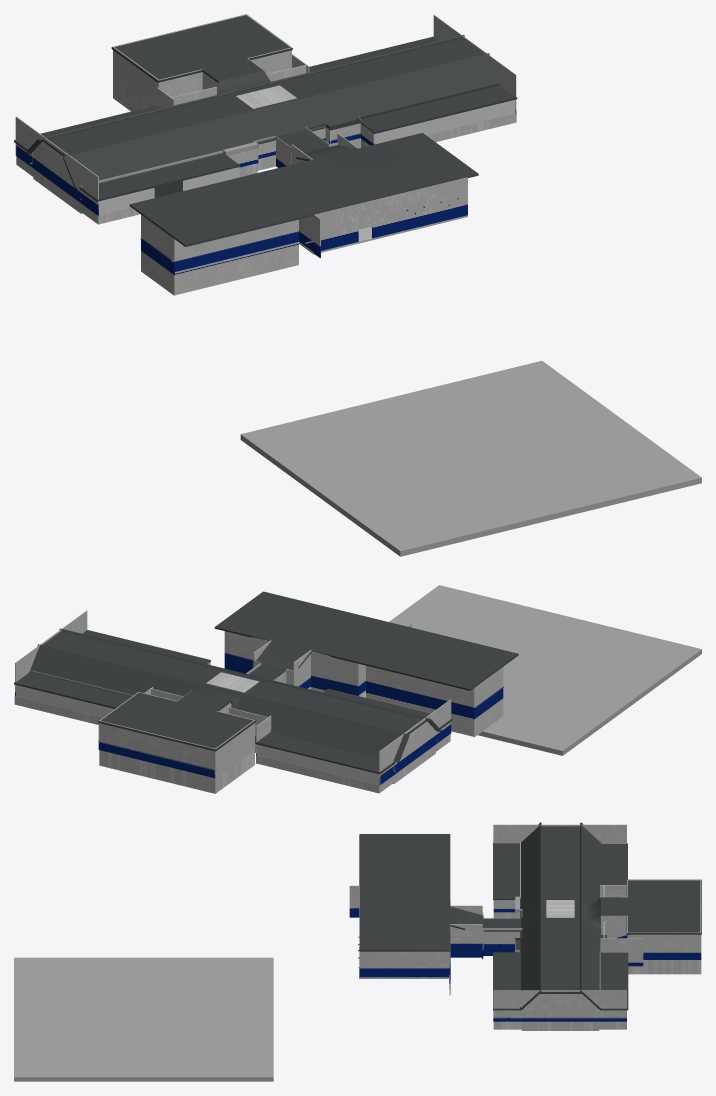
File: new facility 2 monday 19 may.fbx
3 views of the same model, one above another, from view 1: azimuth 30°, elevation 25°; view 2: azimuth 150°, elevation 25°; view 3: azimuth 270°, elevation 25° (orthographic). The views are drawn at different scales.
Parts seen in each view (by area): view 1: pCube338, FacLight27, polySurface645, polySurface653, polySurface421, polySurface678, polySurface776, polySurface599, polySurface623, polySurface435, polySurface464; view 2: FacLight27, pCube338, polySurface421, polySurface563, polySurface749, polySurface678, polySurface650, polySurface670, polySurface536, polySurface623, polySurface529, polySurface435 (+5 smaller); view 3: pCube338, FacLight27, polySurface464, polySurface421, polySurface452, polySurface649, polySurface678, polySurface599, polySurface670, polySurface776, polySurface584, polySurface650 (+4 smaller).
Boxes of the visible parts, bbox=[...] form: pCube338: bbox=[240, 361, 701, 556]; FacLight27: bbox=[26, 14, 498, 246]; polySurface645: bbox=[175, 219, 298, 295]; polySurface653: bbox=[313, 177, 467, 252]; polySurface421: bbox=[16, 81, 516, 273]; polySurface678: bbox=[15, 116, 98, 215]; polySurface776: bbox=[360, 85, 517, 133]; polySurface599: bbox=[80, 153, 239, 201]; polySurface623: bbox=[141, 215, 174, 295]; polySurface435: bbox=[113, 46, 158, 106]; polySurface464: bbox=[433, 15, 516, 113]; FacLight27: bbox=[29, 591, 518, 762]; pCube338: bbox=[308, 585, 701, 755]; polySurface421: bbox=[14, 690, 450, 793]; polySurface563: bbox=[366, 665, 473, 736]; polySurface749: bbox=[98, 720, 214, 777]; polySurface678: bbox=[379, 699, 451, 785]; polySurface650: bbox=[255, 732, 395, 774]; polySurface670: bbox=[14, 672, 130, 708]; polySurface536: bbox=[310, 651, 357, 695]; polySurface623: bbox=[473, 667, 503, 737]; polySurface529: bbox=[224, 631, 268, 673]; polySurface435: bbox=[214, 720, 255, 778]; pCube338: bbox=[14, 957, 273, 1081]; FacLight27: bbox=[359, 822, 701, 1010]; polySurface464: bbox=[493, 990, 626, 1021]; polySurface421: bbox=[359, 912, 701, 1030]; polySurface452: bbox=[360, 951, 448, 977]; polySurface649: bbox=[627, 932, 700, 959]; polySurface678: bbox=[493, 824, 626, 843]; polySurface599: bbox=[493, 842, 519, 900]; polySurface670: bbox=[600, 952, 628, 1010]; polySurface776: bbox=[493, 952, 520, 1010]; polySurface584: bbox=[450, 924, 482, 957]; polySurface650: bbox=[601, 843, 627, 884].
Size of the model in its own units: 242 by 90.76 by 416.
